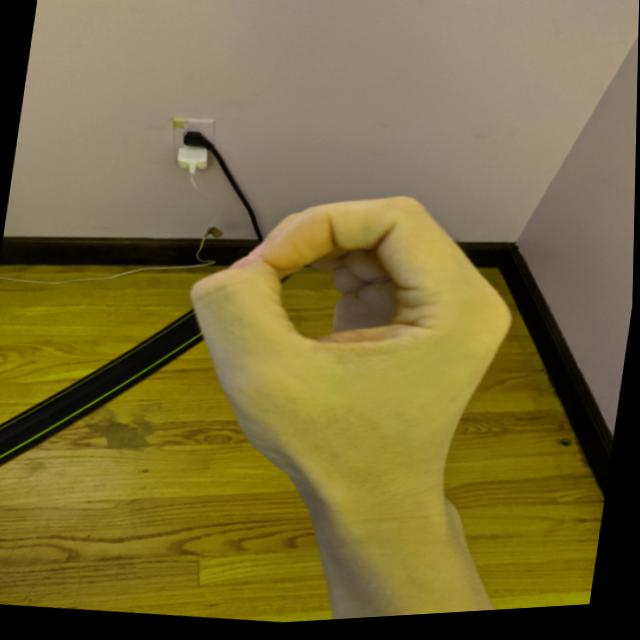O: (155, 165, 537, 533)
